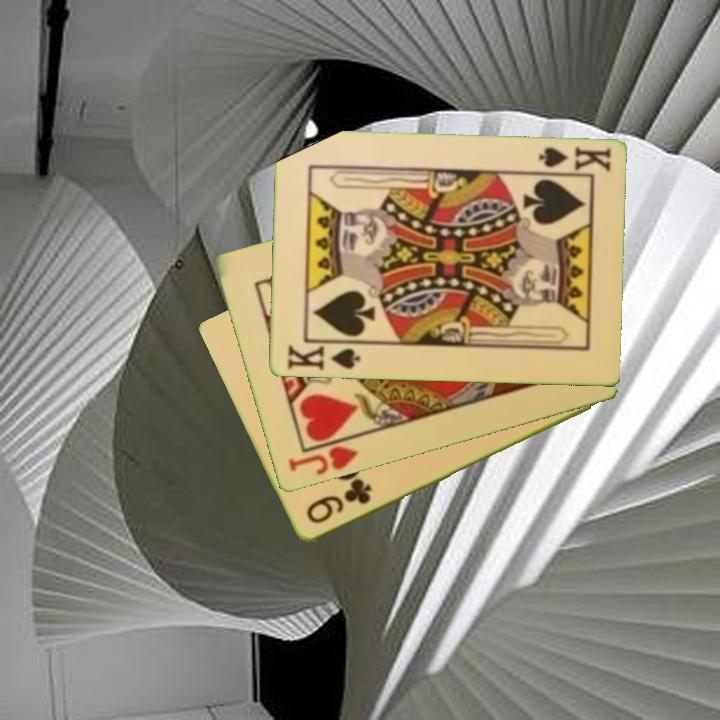9c: (302, 477, 374, 528)
Jh: (284, 433, 362, 479)
Ks: (531, 143, 614, 176), (283, 339, 363, 373)
